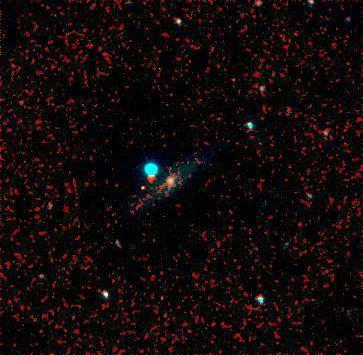star: (131, 173, 161, 203)
